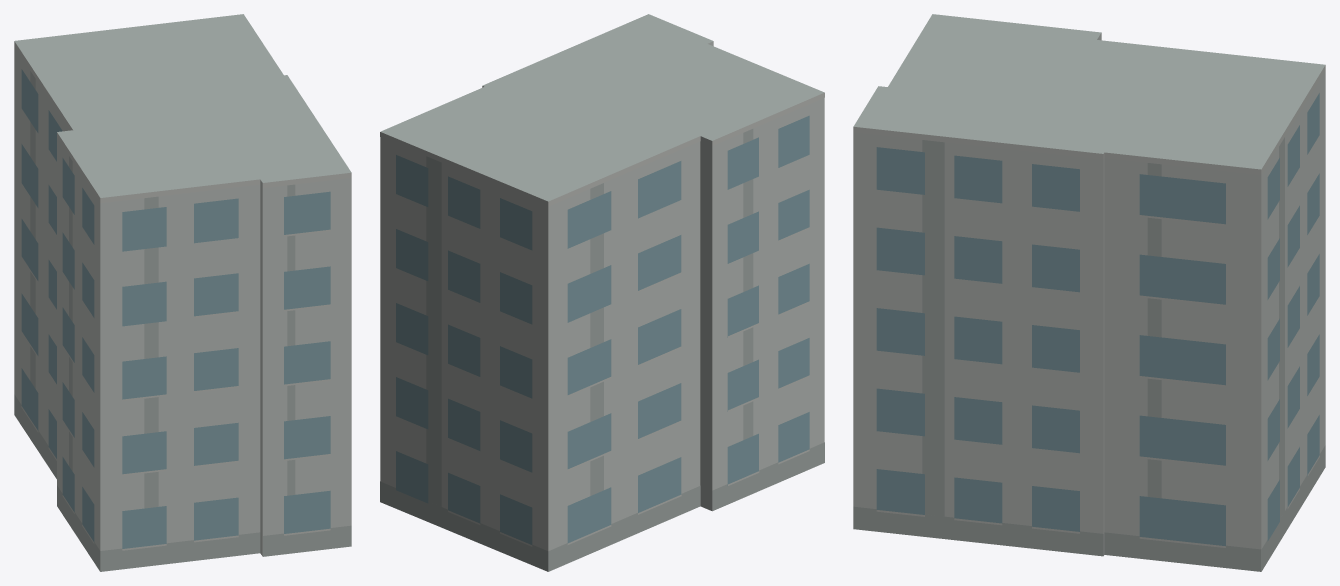
File: residential-b01a40ef-df98-48b5-8c46-c5ea4e4c85f7.glb
The picture shows the model from 3 angles, left to right: view 1: azimuth 30°, elevation 25°; view 2: azimuth 150°, elevation 25°; view 3: azimuth 270°, elevation 25°; orthographic projection. The views are drawn at different scales.
Parts seen in each view (by area): view 1: residential-b01a40ef-df98-48b5-8c46-c5ea4e4c85f7.tmp; view 2: residential-b01a40ef-df98-48b5-8c46-c5ea4e4c85f7.tmp; view 3: residential-b01a40ef-df98-48b5-8c46-c5ea4e4c85f7.tmp.
Boxes of the visible parts, bbox=[...] form: residential-b01a40ef-df98-48b5-8c46-c5ea4e4c85f7.tmp: bbox=[14, 14, 351, 571]; residential-b01a40ef-df98-48b5-8c46-c5ea4e4c85f7.tmp: bbox=[380, 14, 824, 571]; residential-b01a40ef-df98-48b5-8c46-c5ea4e4c85f7.tmp: bbox=[853, 14, 1325, 571].
Size of the model in its own units: 14.31 by 17.25 by 18.36.
